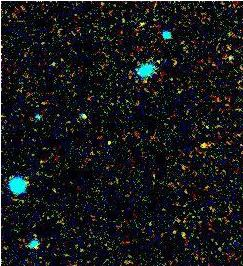star: (194, 128, 224, 158)
